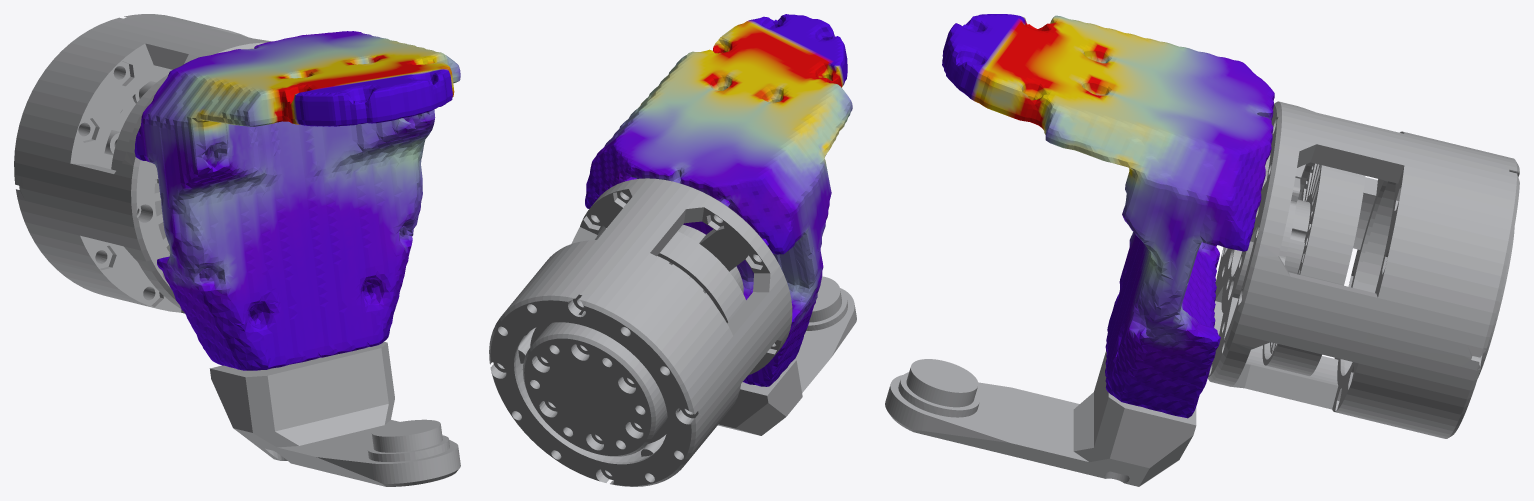
File: arm_right_elbow_pitch_opt.glb
3 renders of one model, left to right at view 1: azimuth 30°, elevation 25°; view 2: azimuth 150°, elevation 25°; view 3: azimuth 270°, elevation 25°, orthographic. The views are drawn at different scales.
Visible parts, largest first — view 1: arm_right_elbow_pitch_visual.stl; view 2: arm_right_elbow_pitch_visual.stl; view 3: arm_right_elbow_pitch_visual.stl.
Part boxes in pixels (x1,y1,x2,y2): arm_right_elbow_pitch_visual.stl: [14, 14, 460, 486]; arm_right_elbow_pitch_visual.stl: [489, 14, 856, 486]; arm_right_elbow_pitch_visual.stl: [885, 14, 1519, 486].
Size of the model in its own units: 0.0711 by 0.1163 by 0.1539.
